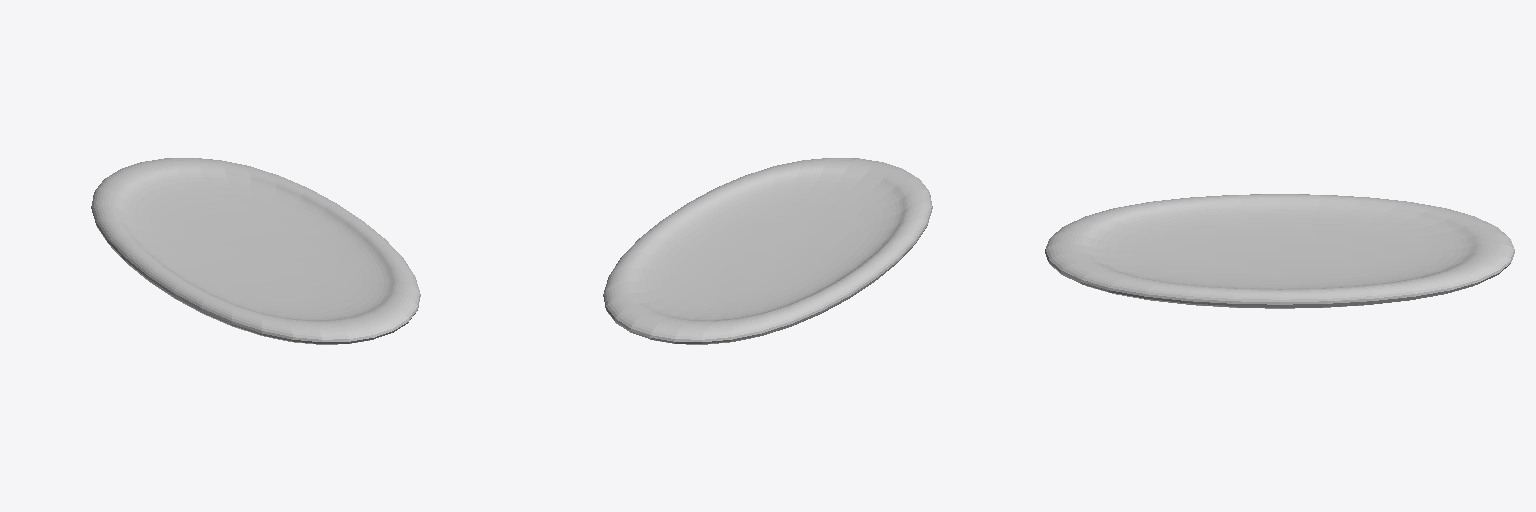
Rendered from Piste_seul.obj.
The picture shows the model from 3 angles: view 1: azimuth 30°, elevation 25°; view 2: azimuth 150°, elevation 25°; view 3: azimuth 270°, elevation 25°; orthographic projection.
Visible parts, largest first — view 1: Piste; view 2: Piste; view 3: Piste.
Boxes of the visible parts, x1=… form: Piste: x1=91, y1=158, x2=420, y2=344; Piste: x1=603, y1=158, x2=932, y2=344; Piste: x1=1045, y1=194, x2=1514, y2=308.
Size of the model in its own units: 14.81 by 1.65 by 27.73.